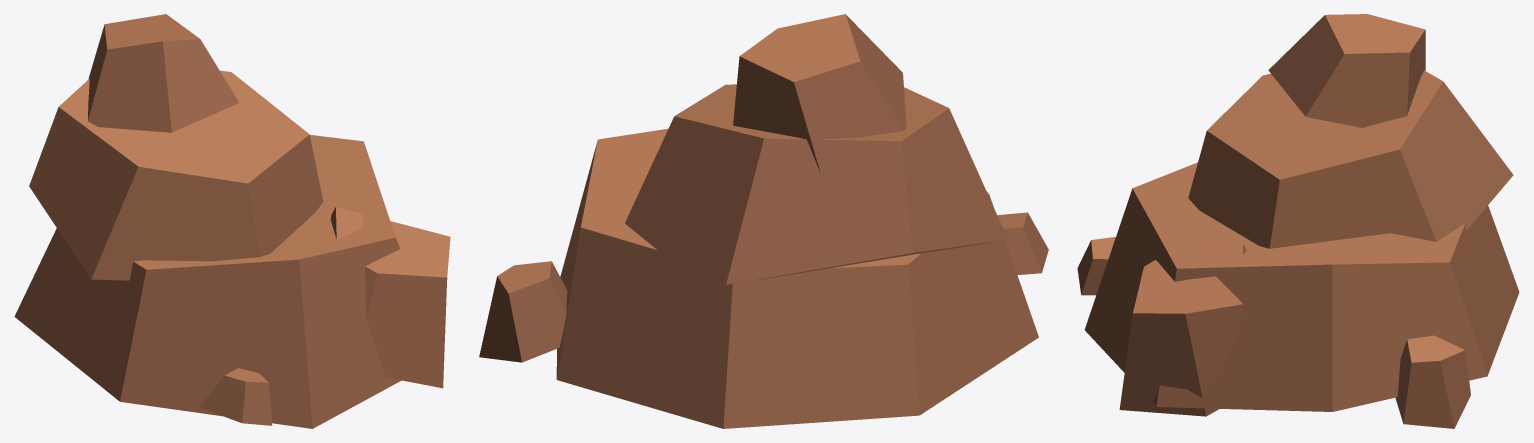
File: rock.glb
3 views of the same model, side by side, from view 1: azimuth 30°, elevation 25°; view 2: azimuth 150°, elevation 25°; view 3: azimuth 270°, elevation 25° (orthographic). The views are drawn at different scales.
Visible parts, largest first — view 1: rock; view 2: rock; view 3: rock.
Boxes of the visible parts, x1,y1,x2,y2 form: rock: [14, 14, 450, 428]; rock: [479, 14, 1048, 428]; rock: [1077, 14, 1519, 428].
Bounding box in the file's own units: 1.46 × 1.26 × 1.63.
